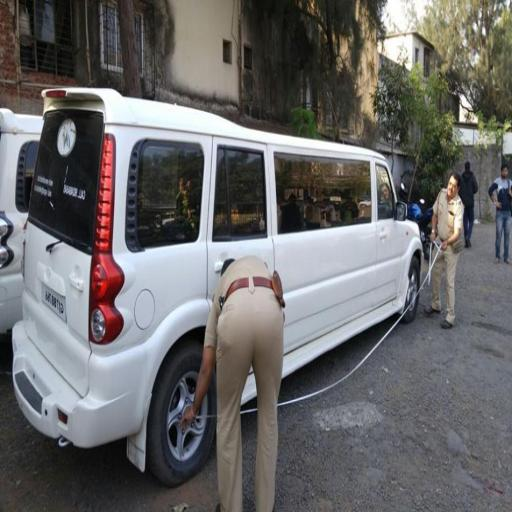License: (41, 280, 67, 322)
